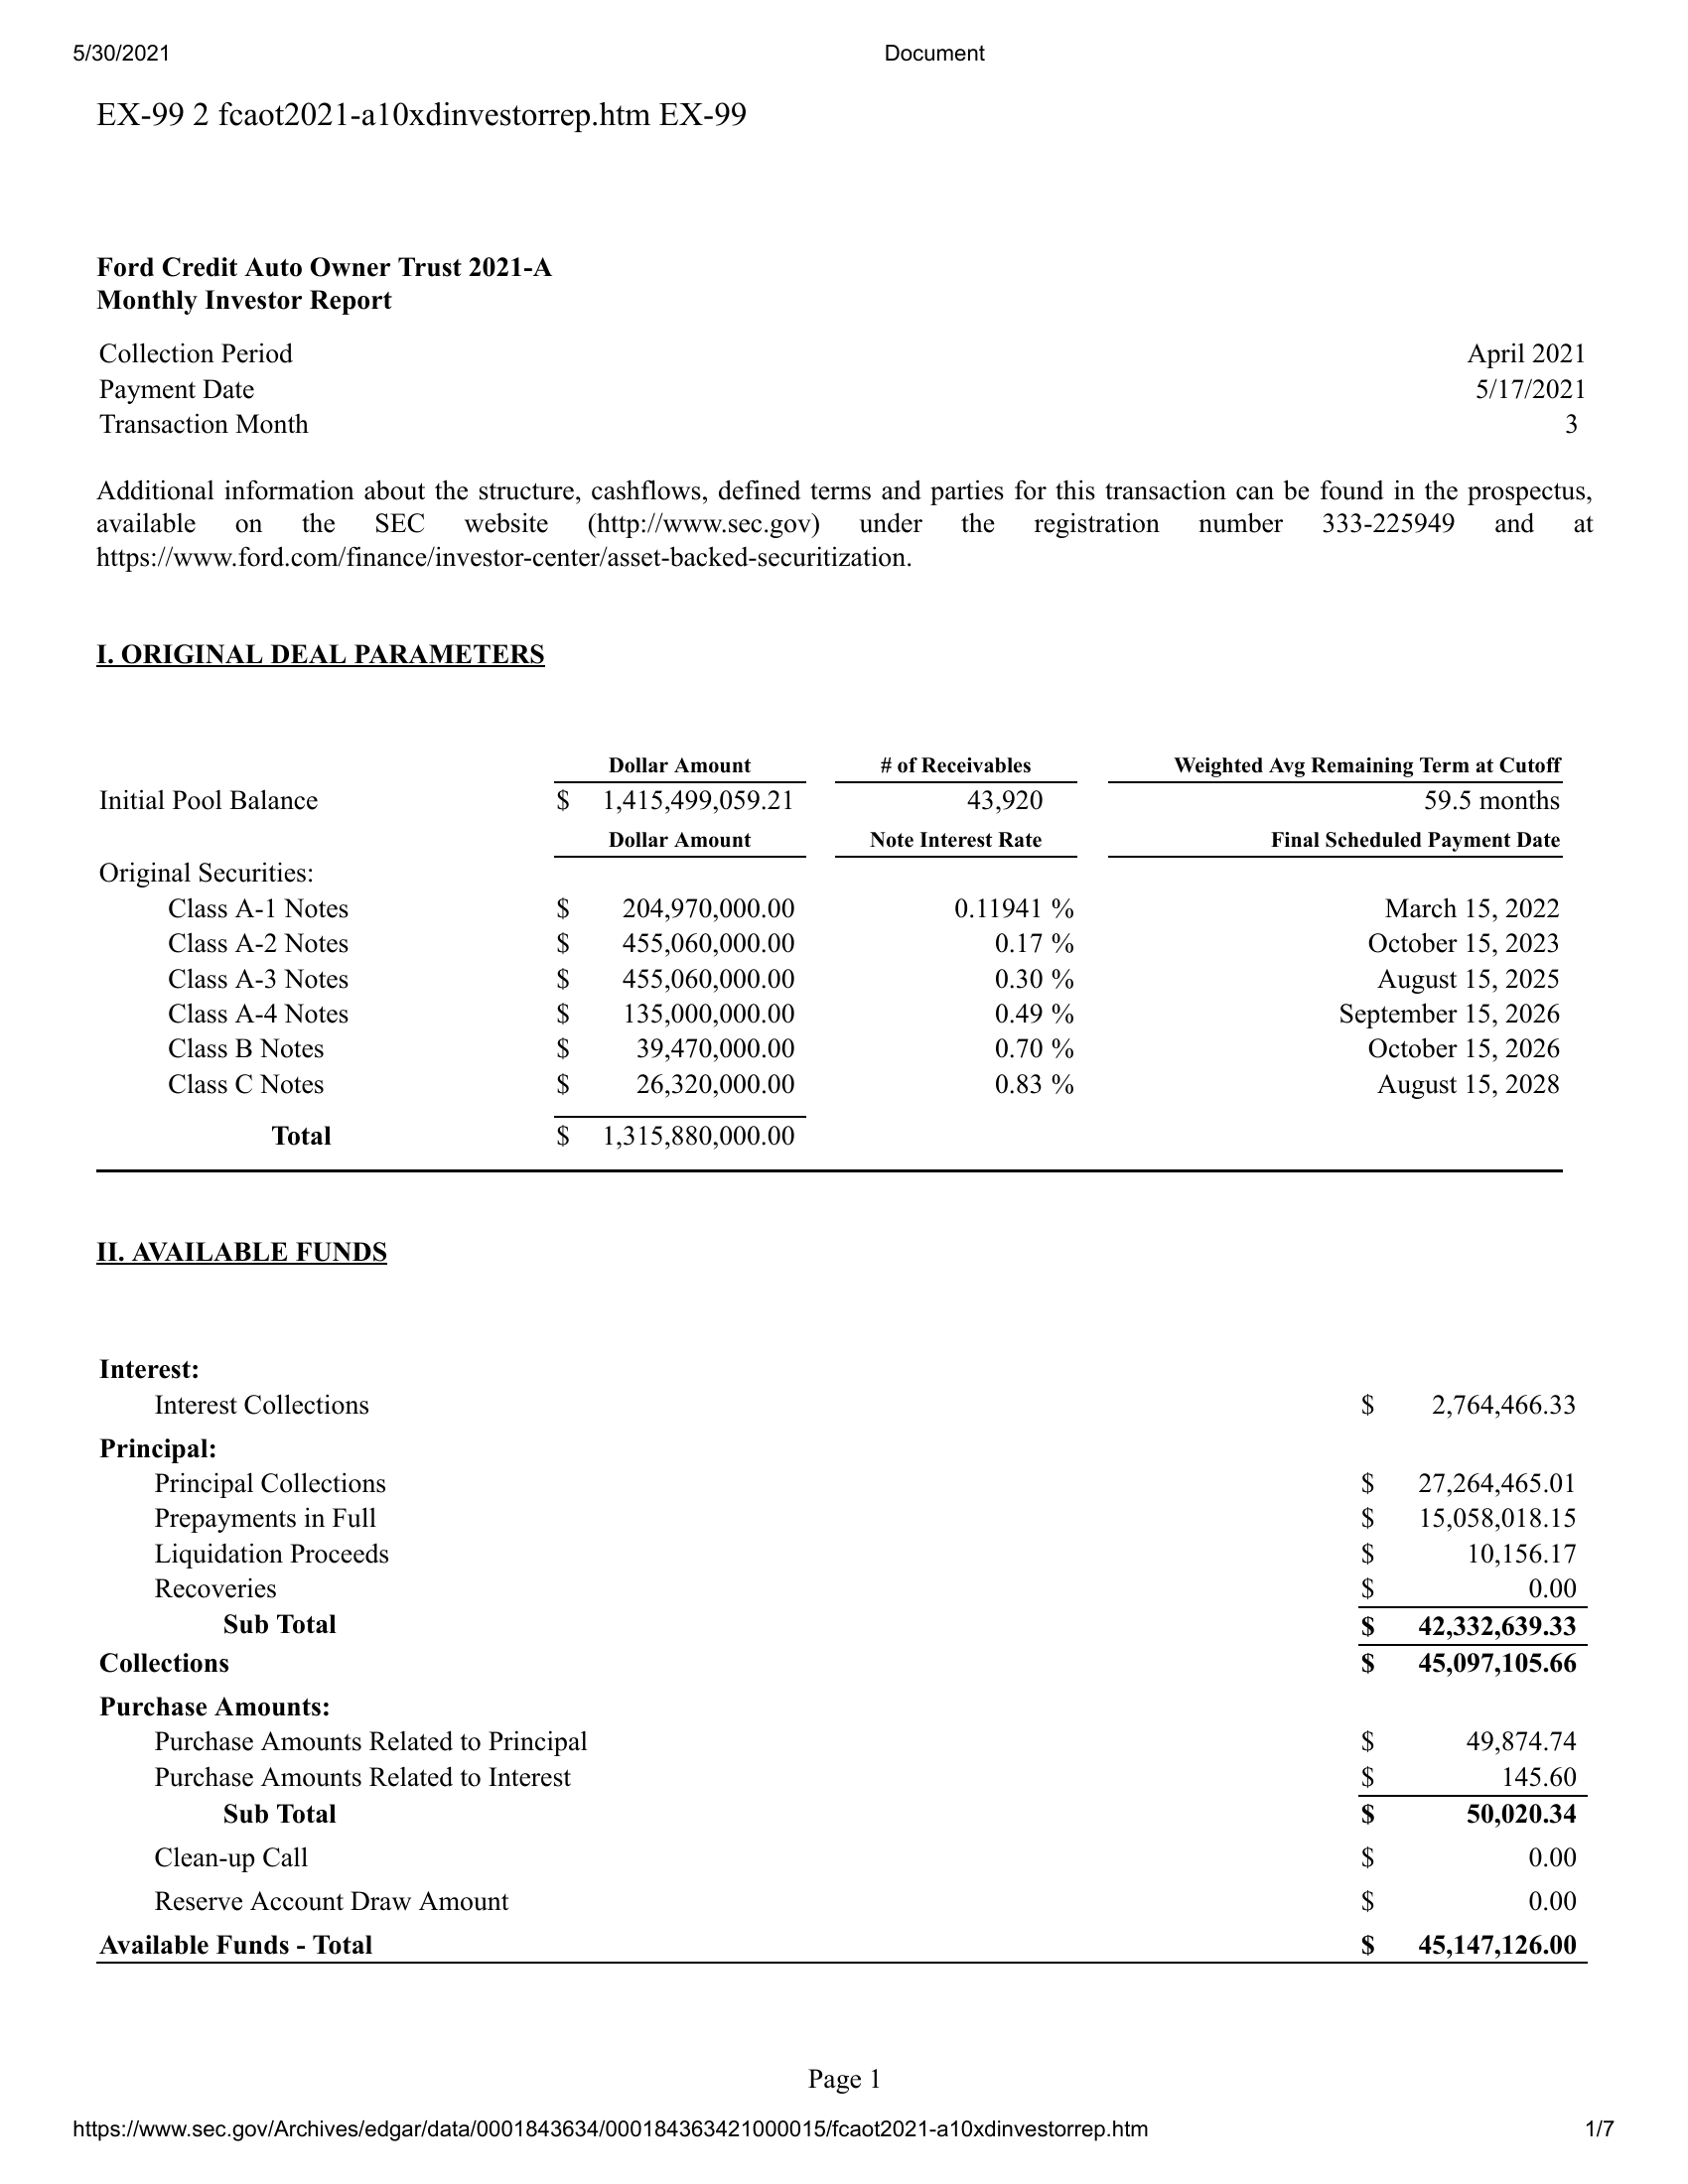word: (71, 2118, 1149, 2145), (96, 548, 911, 574), (216, 101, 649, 135), (585, 509, 821, 541), (353, 643, 546, 668), (603, 1124, 796, 1149), (605, 789, 791, 814), (622, 897, 796, 922), (622, 932, 796, 957), (622, 970, 796, 994), (622, 1003, 796, 1028), (635, 1037, 796, 1064), (635, 1072, 796, 1099), (131, 1241, 289, 1267), (1418, 1615, 1576, 1642), (1417, 1652, 1576, 1677), (1417, 1471, 1575, 1496), (1418, 1934, 1576, 1959), (1420, 1507, 1576, 1532), (1034, 511, 1161, 541), (154, 1507, 296, 1533), (121, 643, 262, 668), (1433, 1393, 1575, 1418), (154, 1542, 284, 1569), (1339, 1003, 1459, 1030), (98, 1438, 216, 1464), (1321, 511, 1457, 534), (1466, 482, 1592, 507), (96, 287, 197, 317), (99, 411, 231, 434), (1466, 1730, 1578, 1757), (1468, 1803, 1578, 1829), (590, 480, 707, 505), (261, 1471, 387, 1494), (223, 479, 353, 500), (99, 1652, 229, 1673), (488, 1730, 589, 1757), (154, 1847, 255, 1874), (98, 342, 213, 365), (199, 862, 314, 885), (245, 1393, 369, 1415), (154, 1471, 254, 1498), (1470, 1542, 1576, 1567), (1472, 378, 1585, 401), (1105, 480, 1227, 502), (154, 1578, 277, 1599), (98, 378, 195, 404), (310, 287, 394, 317), (99, 862, 191, 888), (294, 1241, 387, 1267), (658, 101, 748, 128), (98, 1696, 207, 1718), (204, 287, 303, 310), (291, 1542, 390, 1565), (154, 1766, 254, 1789), (98, 480, 215, 500), (213, 1698, 330, 1718), (477, 482, 582, 503), (96, 101, 184, 126), (1310, 757, 1413, 778), (98, 1936, 209, 1955), (929, 479, 1005, 507), (96, 512, 197, 534), (418, 1890, 511, 1913), (154, 1730, 254, 1751), (1197, 511, 1286, 534), (154, 1890, 243, 1913), (1376, 970, 1457, 994), (250, 1890, 344, 1911), (1378, 1074, 1457, 1099), (885, 43, 986, 62), (261, 1732, 362, 1751), (261, 1767, 362, 1787), (468, 255, 553, 278), (488, 1766, 573, 1789), (99, 1360, 197, 1379), (270, 643, 346, 668), (229, 789, 317, 810), (1174, 757, 1262, 778), (1369, 932, 1457, 954), (1369, 1037, 1457, 1058), (73, 43, 168, 62), (220, 340, 294, 365), (954, 897, 1041, 918), (716, 479, 801, 500), (369, 1730, 454, 1751), (369, 1766, 454, 1787), (154, 1393, 238, 1415), (161, 255, 238, 278), (966, 791, 1043, 814), (920, 757, 1030, 773), (310, 255, 392, 277), (1479, 789, 1560, 810), (234, 411, 309, 434), (1317, 477, 1385, 502), (1466, 342, 1525, 370), (465, 514, 550, 534), (1427, 831, 1511, 851), (1502, 1766, 1576, 1787), (1325, 831, 1422, 847), (397, 255, 463, 278), (1387, 897, 1457, 918), (807, 2069, 864, 2095), (215, 1934, 291, 1954), (168, 931, 227, 955), (858, 512, 926, 534), (101, 789, 167, 810), (96, 255, 156, 278), (168, 968, 229, 991), (168, 1002, 229, 1025), (168, 1037, 229, 1060), (168, 1072, 229, 1096), (363, 479, 427, 500), (285, 899, 349, 920), (285, 932, 349, 954), (285, 968, 349, 989), (285, 1003, 349, 1025), (261, 1039, 324, 1060), (261, 1074, 324, 1096), (168, 897, 227, 920), (271, 1124, 333, 1145), (349, 1890, 411, 1911), (312, 1934, 374, 1955), (807, 480, 874, 500), (243, 257, 303, 278), (277, 1613, 337, 1634), (277, 1803, 337, 1824), (674, 831, 752, 847), (1532, 342, 1585, 365), (374, 511, 427, 534), (674, 757, 750, 773), (202, 378, 254, 401), (1505, 897, 1560, 918), (1505, 932, 1560, 954), (1505, 968, 1560, 989), (1505, 1037, 1560, 1058), (1505, 1072, 1560, 1094), (920, 831, 991, 847), (1528, 1578, 1576, 1601), (1528, 1890, 1576, 1913), (1505, 1003, 1560, 1023), (1424, 789, 1470, 812), (223, 1611, 270, 1634), (172, 789, 222, 810), (1500, 757, 1564, 773), (995, 932, 1043, 954), (995, 1003, 1043, 1025), (996, 1039, 1044, 1060), (996, 1072, 1044, 1094), (1528, 1847, 1576, 1868), (1493, 511, 1536, 534), (262, 1847, 309, 1868), (608, 757, 668, 773), (608, 831, 668, 847), (332, 1507, 376, 1528), (1055, 477, 1096, 500), (995, 970, 1043, 989), (236, 932, 278, 954), (431, 479, 470, 502), (225, 1805, 270, 1824), (1422, 477, 1459, 500), (236, 899, 275, 920), (236, 1003, 278, 1023), (1418, 757, 1470, 773), (1012, 477, 1048, 500), (301, 511, 337, 534), (961, 511, 996, 534), (1466, 897, 1497, 924), (1466, 968, 1497, 994), (1466, 1037, 1497, 1064), (1466, 1072, 1497, 1099), (881, 480, 922, 500), (236, 970, 277, 989), (1268, 757, 1305, 778), (1270, 831, 1319, 847), (1234, 484, 1277, 502), (1466, 932, 1497, 957), (1466, 1003, 1497, 1028), (869, 831, 915, 847), (998, 831, 1043, 847), (1516, 831, 1560, 847), (1282, 477, 1310, 502), (96, 1241, 124, 1266), (1392, 477, 1417, 502), (234, 514, 262, 535), (1587, 2118, 1615, 2138), (1051, 897, 1075, 920), (1051, 931, 1075, 954), (1051, 968, 1075, 991), (1051, 1002, 1075, 1025), (1051, 1037, 1075, 1060), (1051, 1072, 1075, 1096), (1562, 409, 1580, 436), (96, 643, 113, 668), (1575, 514, 1596, 534), (305, 1507, 324, 1528), (236, 1072, 254, 1096), (459, 1734, 482, 1751), (459, 1769, 482, 1787), (236, 1037, 254, 1058), (193, 101, 207, 126), (1362, 1576, 1376, 1601), (1362, 1650, 1376, 1675), (1360, 1393, 1374, 1416), (1362, 1471, 1376, 1494), (1362, 1507, 1376, 1530), (1362, 1542, 1376, 1565), (1362, 1615, 1376, 1638), (1362, 1730, 1376, 1753), (1362, 1766, 1376, 1789), (1362, 1803, 1376, 1826), (1362, 1847, 1376, 1870), (1362, 1890, 1376, 1913), (1362, 1934, 1376, 1957), (897, 757, 917, 773), (1475, 757, 1495, 773), (557, 931, 569, 955), (557, 966, 569, 991), (557, 789, 569, 812), (557, 897, 569, 920), (557, 1002, 569, 1025), (557, 1037, 569, 1060), (557, 1072, 569, 1096), (557, 1124, 569, 1147), (871, 2067, 881, 2090), (879, 757, 892, 773), (294, 1943, 309, 1952)
